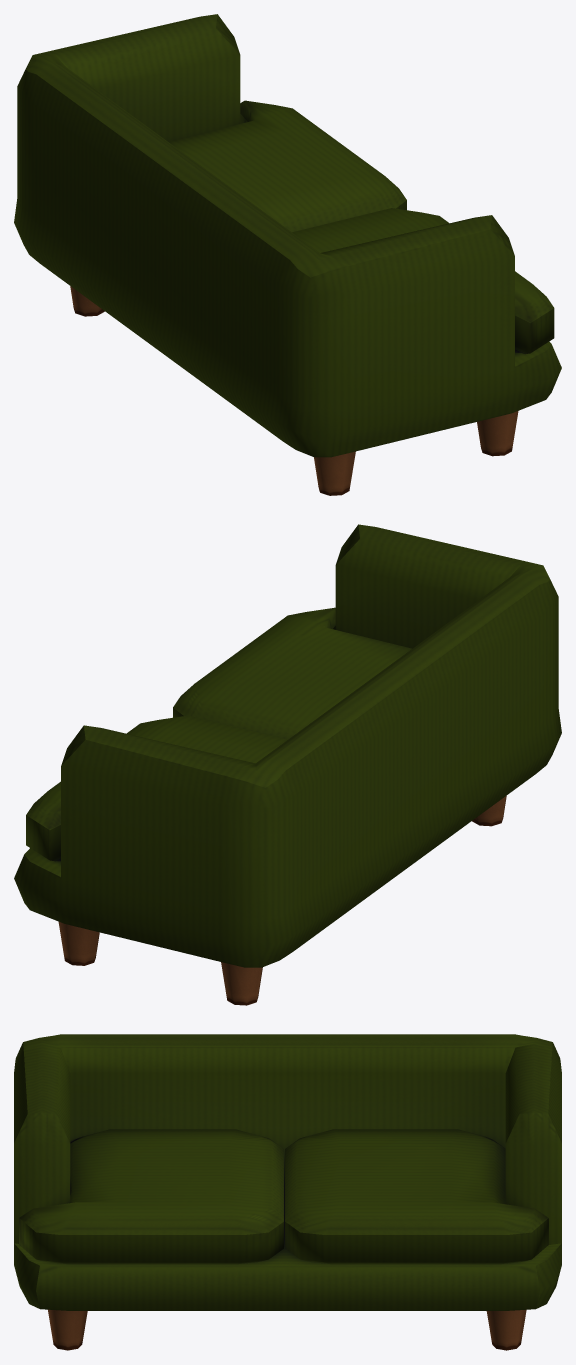
File: Sofa_A.fbx
3 views of the same model, one above another, from view 1: azimuth 30°, elevation 25°; view 2: azimuth 150°, elevation 25°; view 3: azimuth 270°, elevation 25° (orthographic). The views are drawn at different scales.
Visible parts, largest first — view 1: U_Sofa_A; view 2: U_Sofa_A; view 3: U_Sofa_A.
Part boxes in pixels (left/top/right/bottom): U_Sofa_A: left=14, top=14, right=561, bottom=495; U_Sofa_A: left=14, top=524, right=561, bottom=1005; U_Sofa_A: left=14, top=1034, right=561, bottom=1350.
Bounding box in the file's own units: 133 × 116 × 257.
1 material, 1 textured.
